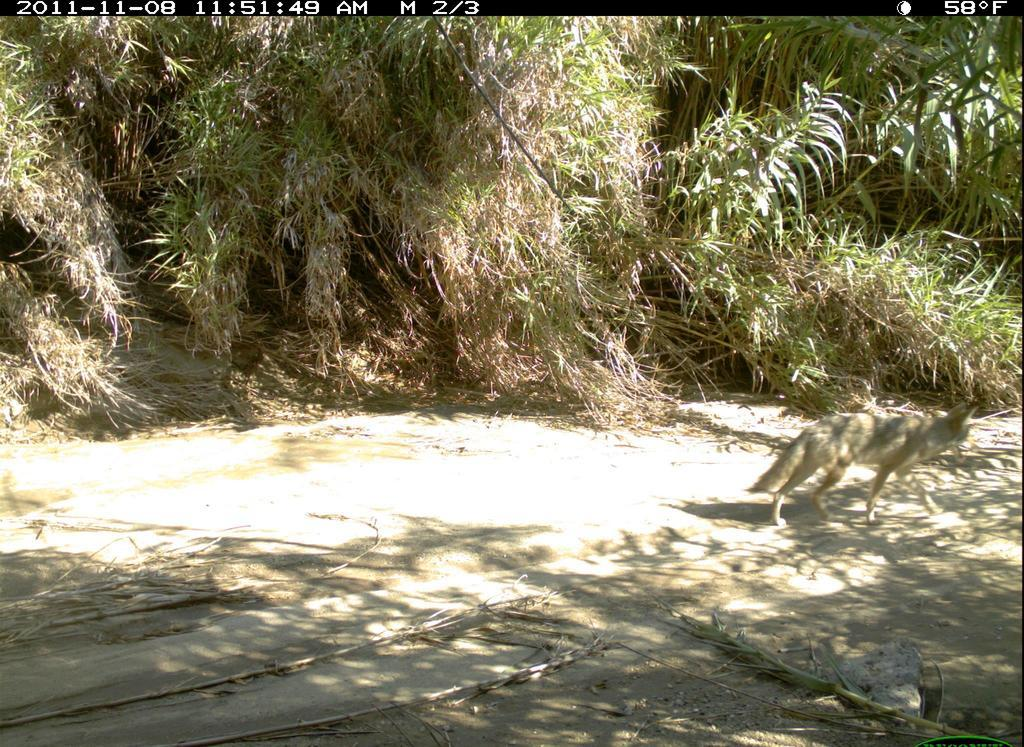coyote: (744, 391, 988, 541)
